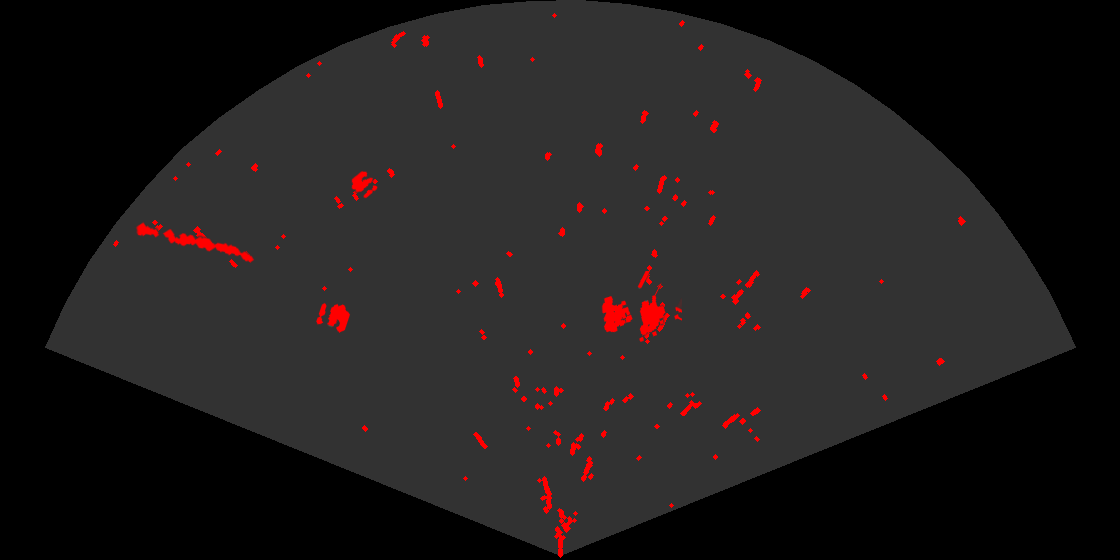ball: (315, 301, 352, 334), (350, 169, 379, 200)
cage: (600, 271, 682, 343)
chain: (134, 220, 256, 264)
